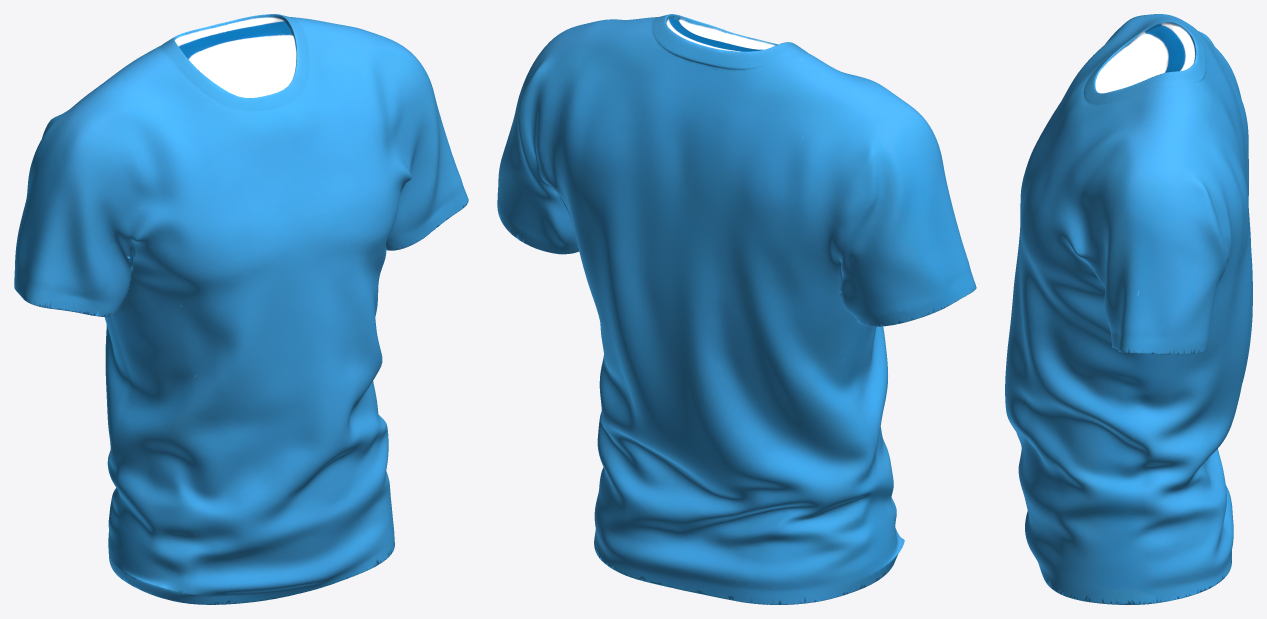
Rendered from Meshy_AI_Blue_T_shirt_0615095932_texture.glb.
3 renders of one model, left to right at view 1: azimuth 30°, elevation 25°; view 2: azimuth 150°, elevation 25°; view 3: azimuth 270°, elevation 25°, orthographic. The views are drawn at different scales.
Size of the model in its own units: 1.69 by 1.9 by 0.8495.
Materials: 1 (1 with a texture image).
